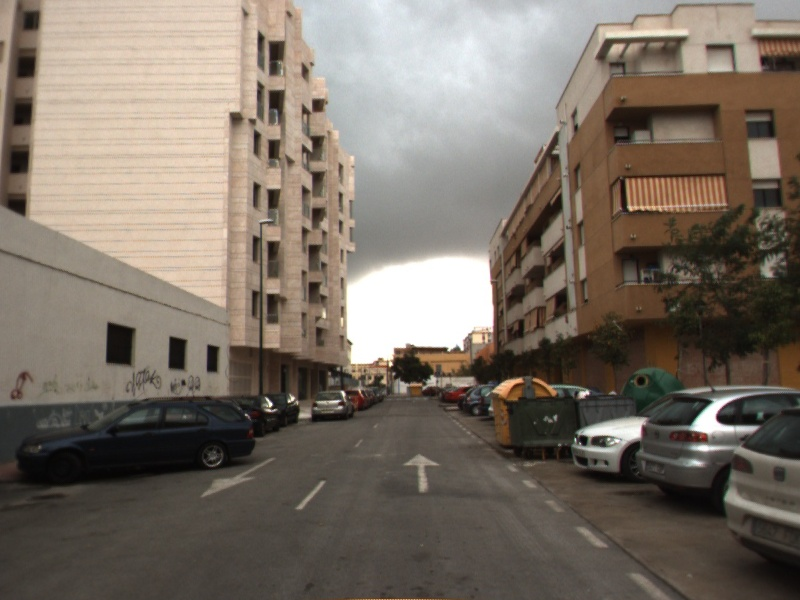STRAIGHT: (399, 450, 445, 495)
